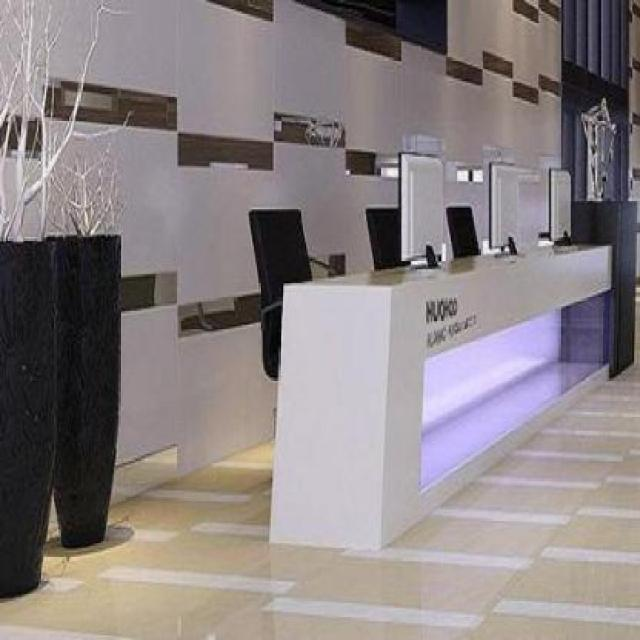frontdesk: (256, 177, 640, 555)
